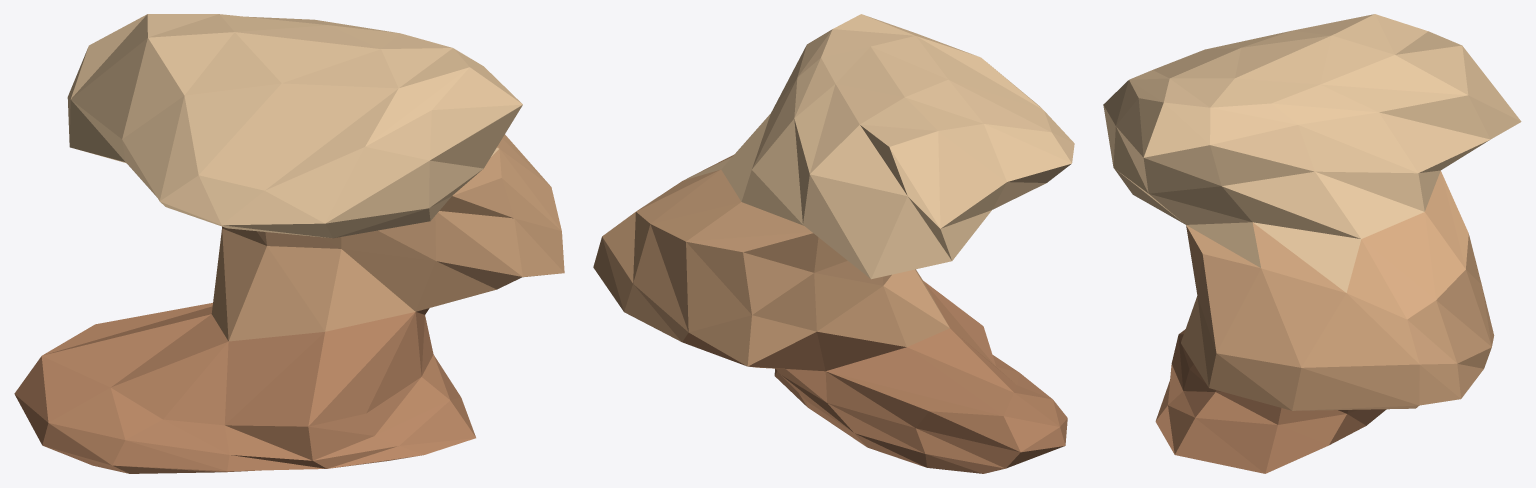
File: canyon-5-2.glb
3 views of the same model, side by side, from view 1: azimuth 30°, elevation 25°; view 2: azimuth 150°, elevation 25°; view 3: azimuth 270°, elevation 25° (orthographic). The views are drawn at different scales.
Parts seen in each view (by area): view 1: canyon-5-2; view 2: canyon-5-2; view 3: canyon-5-2.
Part boxes in pixels (x1,y1,x2,y2): canyon-5-2: [14, 14, 564, 473]; canyon-5-2: [593, 14, 1074, 473]; canyon-5-2: [1103, 14, 1521, 473].
Size of the model in its own units: 29.47 by 22 by 22.64.
